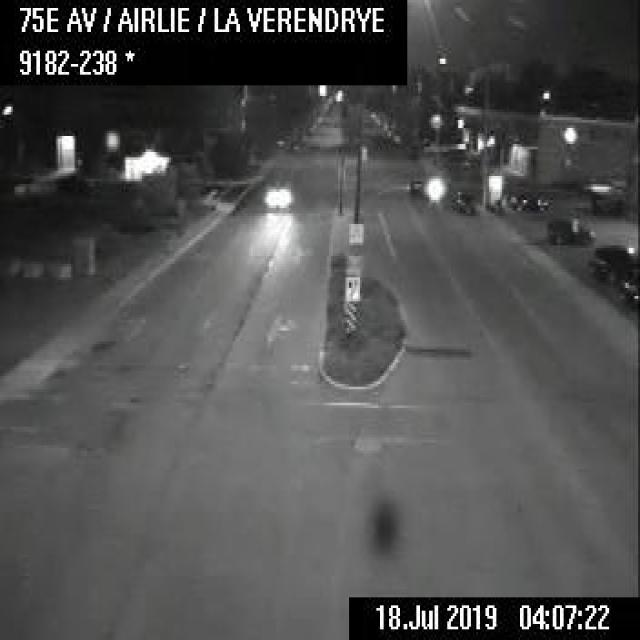vehicle: (588, 240, 636, 283), (545, 213, 594, 243), (258, 174, 293, 211), (507, 187, 547, 213), (448, 185, 473, 215), (615, 273, 637, 307)
